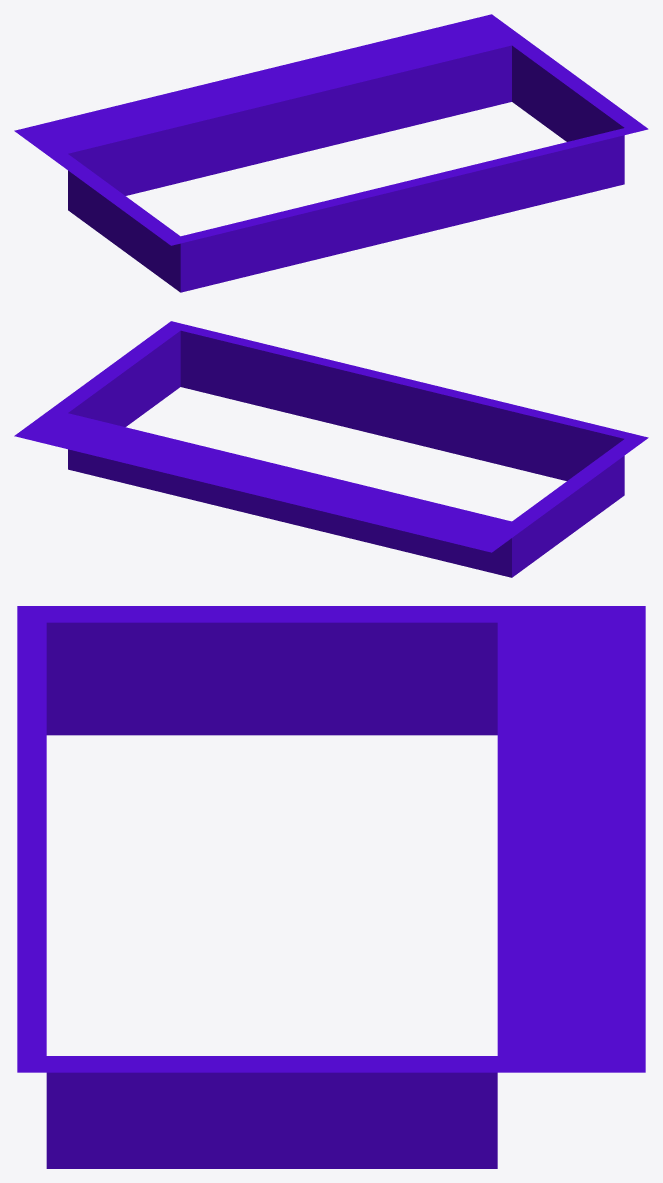
Rendered from FoodStruggle_pared.fbx.
3 views of the same model, one above another, from view 1: azimuth 30°, elevation 25°; view 2: azimuth 150°, elevation 25°; view 3: azimuth 270°, elevation 25° (orthographic). The views are drawn at different scales.
Parts seen in each view (by area): view 1: pared_top, pared_bot, pared_right, pared_left; view 2: pared_bot, pared_top, pared_right, pared_left; view 3: pared_top, pared_left, pared_right, pared_bot.
Part boxes in pixels (left/top/right/bottom): pared_top: left=14, top=14, right=511, bottom=195; pared_bot: left=172, top=128, right=647, bottom=292; pared_right: left=492, top=14, right=648, bottom=141; pared_left: left=15, top=131, right=180, bottom=292; pared_bot: left=172, top=321, right=647, bottom=480; pared_top: left=14, top=413, right=511, bottom=577; pared_right: left=15, top=321, right=180, bottom=435; pared_left: left=492, top=437, right=648, bottom=577; pared_top: left=497, top=606, right=645, bottom=1072; pared_left: left=17, top=606, right=645, bottom=735; pared_right: left=17, top=1056, right=645, bottom=1168; pared_bot: left=17, top=606, right=46, bottom=1071.
Size of the model in its own units: 46.11 by 5.2 by 26.27.
